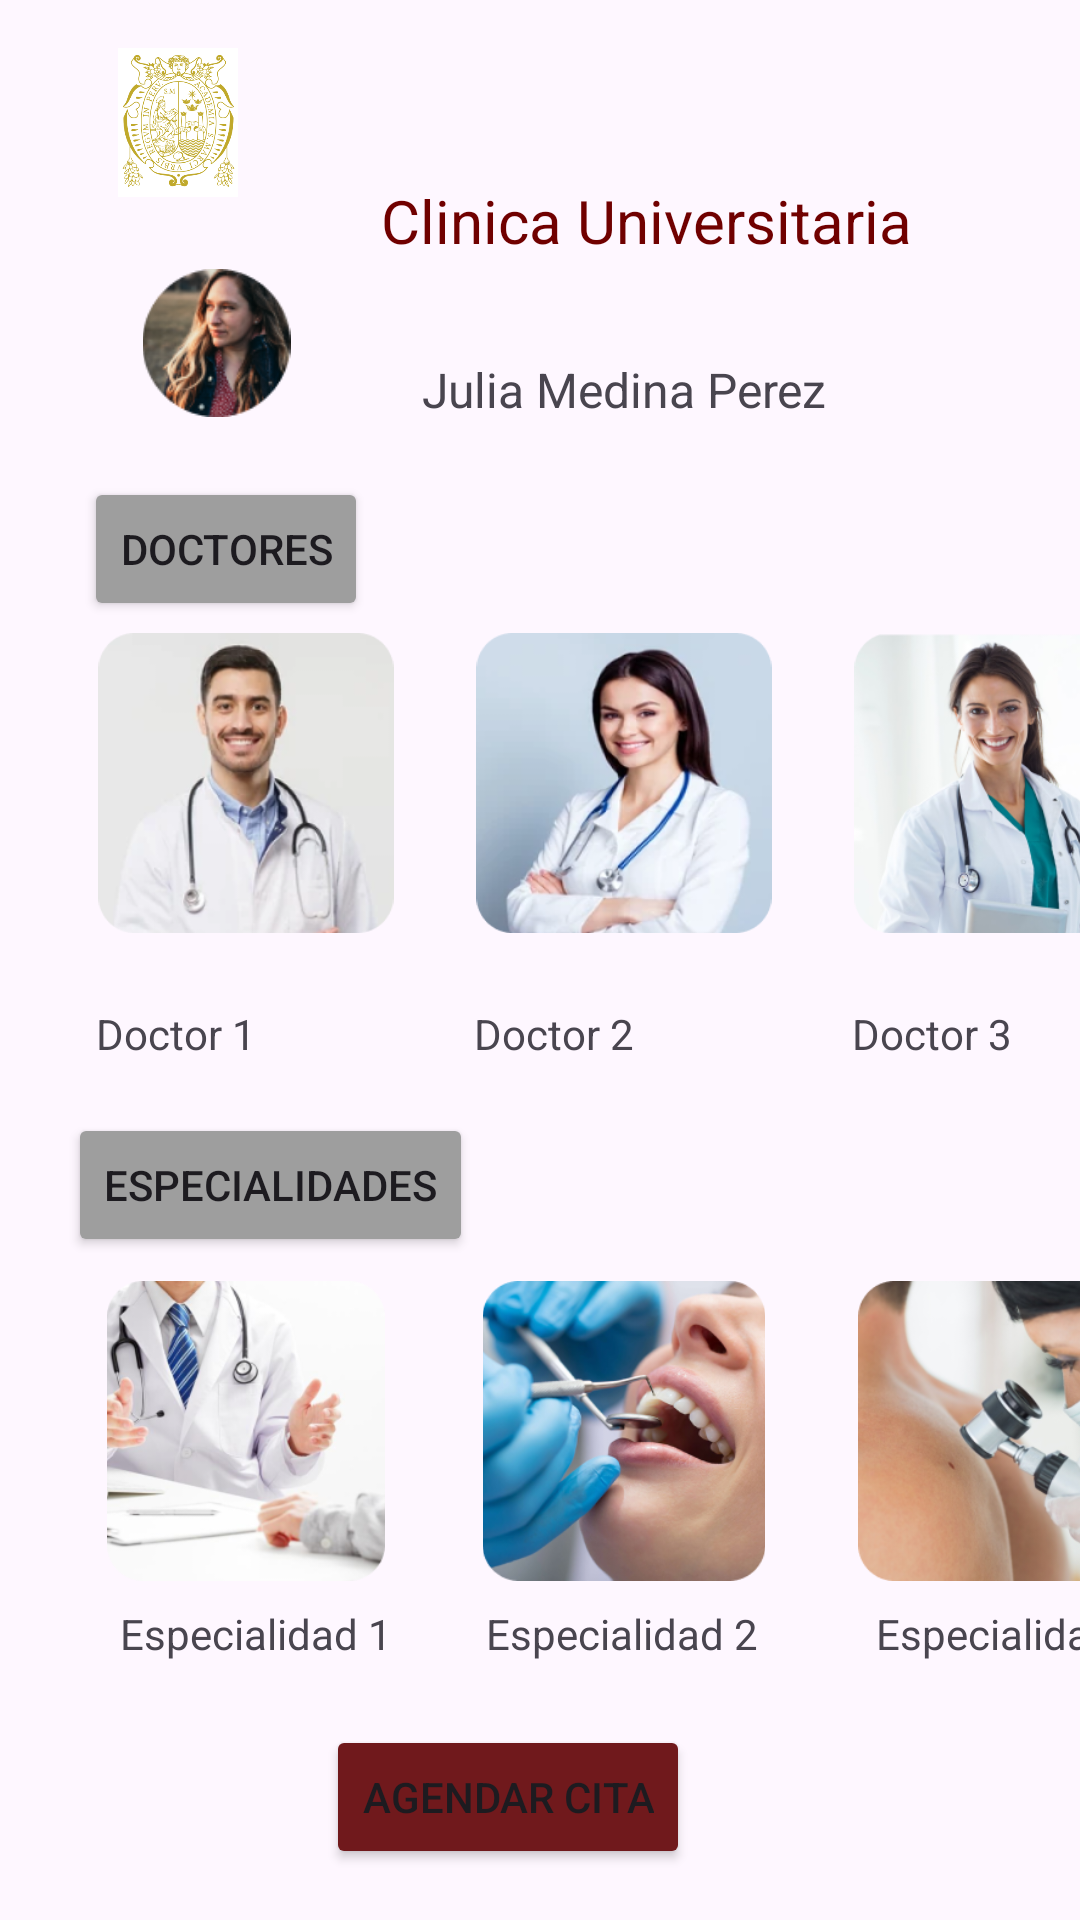

Icon bounding boxes for this 1080×1920 phone screenshot, format (x1, y1, x2, y2):
perfil: (143, 269, 291, 417)
